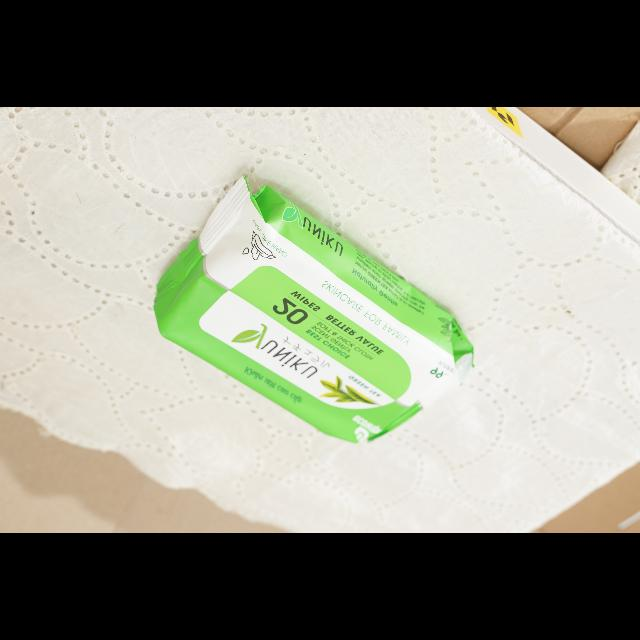khan_giay: (154, 177, 472, 443)
